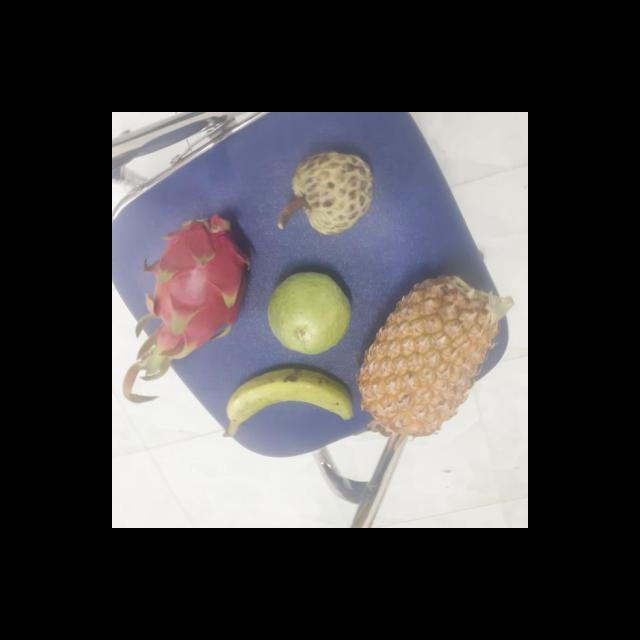Sakya fruit: (286, 152, 380, 233)
banana: (228, 364, 364, 452)
guava: (268, 272, 358, 354)
pineapple: (361, 274, 501, 432)
pitaya: (145, 213, 258, 359)
